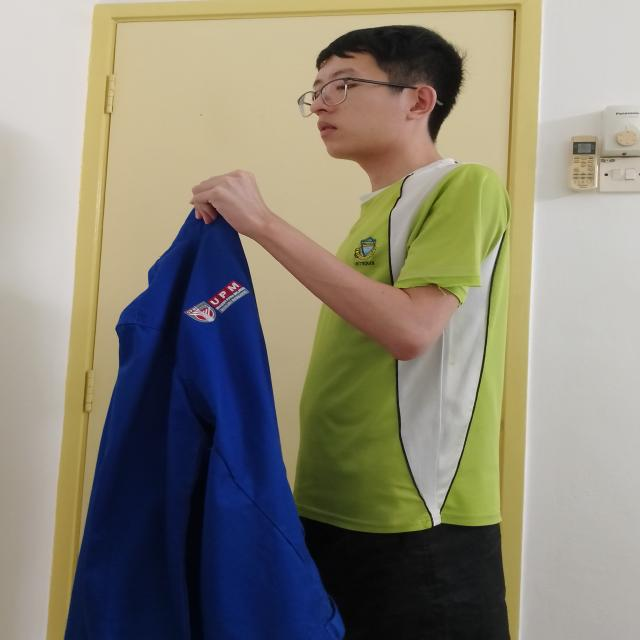person_without_labcoat: (71, 25, 510, 640)
